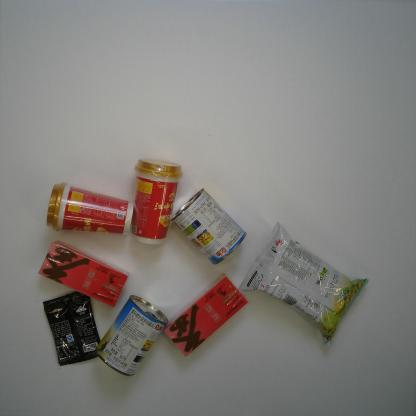Canned Food: (170, 186, 248, 266), (95, 293, 169, 376)
Instant Drink: (162, 272, 248, 360), (36, 238, 128, 309), (128, 158, 185, 246), (41, 290, 105, 368), (44, 182, 136, 236)
Puffed Food: (236, 222, 369, 348)
